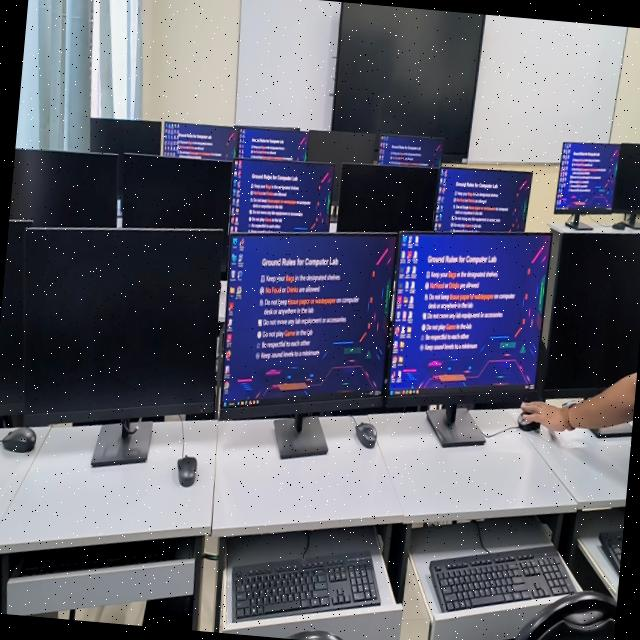Chair: (512, 590, 617, 640)
Cpu: (141, 594, 191, 630)
Digital board: (330, 1, 483, 160)
Keyboard: (231, 554, 377, 619), (428, 545, 573, 610), (9, 537, 180, 576), (597, 530, 623, 576)
Monitor: (22, 226, 221, 465), (219, 232, 396, 456), (386, 231, 549, 445), (120, 153, 230, 251), (8, 147, 116, 225), (229, 158, 332, 232), (336, 162, 438, 230), (433, 165, 530, 231), (0, 218, 31, 417), (553, 140, 618, 228), (306, 129, 377, 203), (160, 120, 236, 159), (88, 116, 159, 153), (234, 125, 307, 160), (376, 132, 441, 167), (611, 143, 640, 212)
Mouse: (0, 425, 35, 451), (176, 454, 196, 485), (355, 421, 375, 447), (517, 410, 539, 430)
